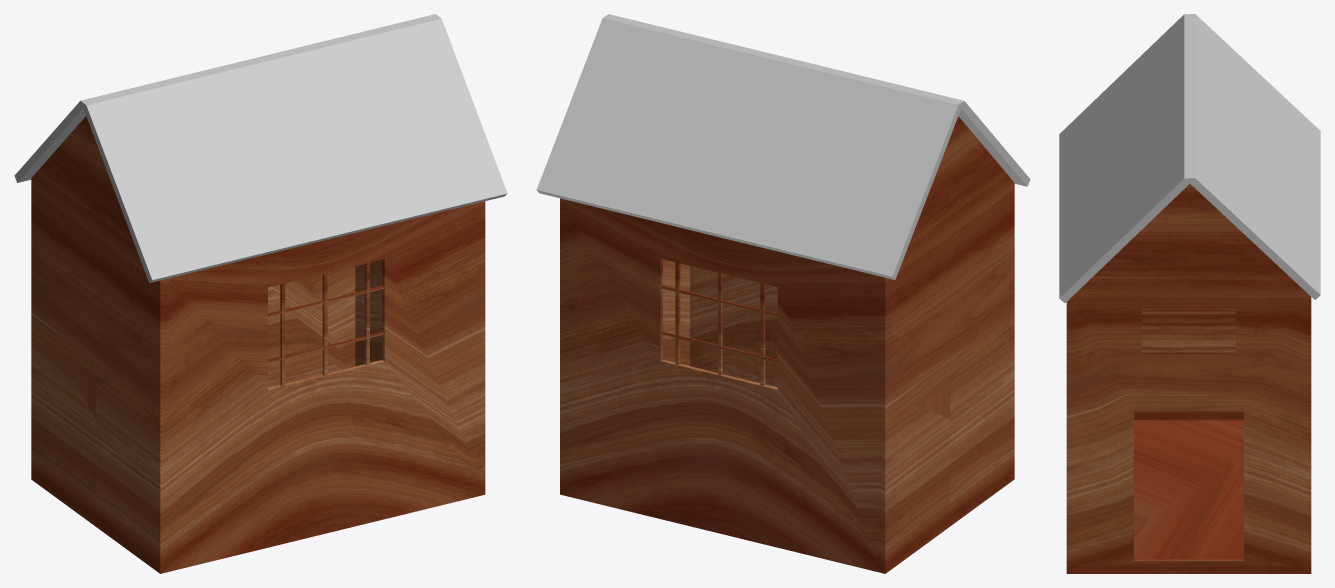
Rendered from doghouse.fbx.
3 views of the same model, side by side, from view 1: azimuth 30°, elevation 25°; view 2: azimuth 150°, elevation 25°; view 3: azimuth 270°, elevation 25° (orthographic). The views are drawn at different scales.
Parts seen in each view (by area): view 1: pCube3, pCube4; view 2: pCube3, pCube4; view 3: pCube3, pCube4, pCube5.
Part boxes in pixels (x1,y1,x2,y2): pCube3: (31, 116, 485, 573); pCube4: (14, 14, 507, 282); pCube3: (560, 116, 1014, 573); pCube4: (536, 14, 1030, 279); pCube3: (1066, 184, 1311, 573); pCube4: (1059, 14, 1320, 302); pCube5: (1141, 309, 1236, 353).
Size of the model in its own units: 2.35 by 2.69 by 1.58.
